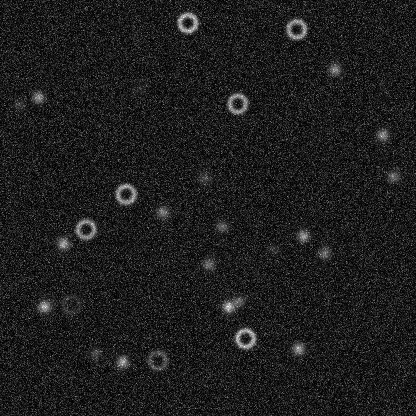Ring: (225, 91, 249, 115), (233, 326, 257, 350), (145, 348, 169, 372), (73, 217, 97, 241), (284, 17, 308, 41), (113, 181, 137, 205), (175, 10, 199, 34), (59, 292, 83, 316)
Spot: (196, 169, 212, 185), (10, 96, 26, 112), (220, 298, 236, 314), (326, 61, 342, 77), (30, 89, 46, 105), (36, 298, 52, 314), (200, 256, 216, 272), (114, 353, 130, 369), (384, 168, 400, 184), (230, 293, 246, 309), (154, 204, 170, 220), (316, 245, 332, 261), (265, 241, 281, 257), (290, 340, 306, 356), (87, 345, 103, 361), (213, 218, 229, 234), (374, 126, 390, 142), (132, 80, 148, 96), (55, 235, 71, 251), (295, 227, 311, 243)
